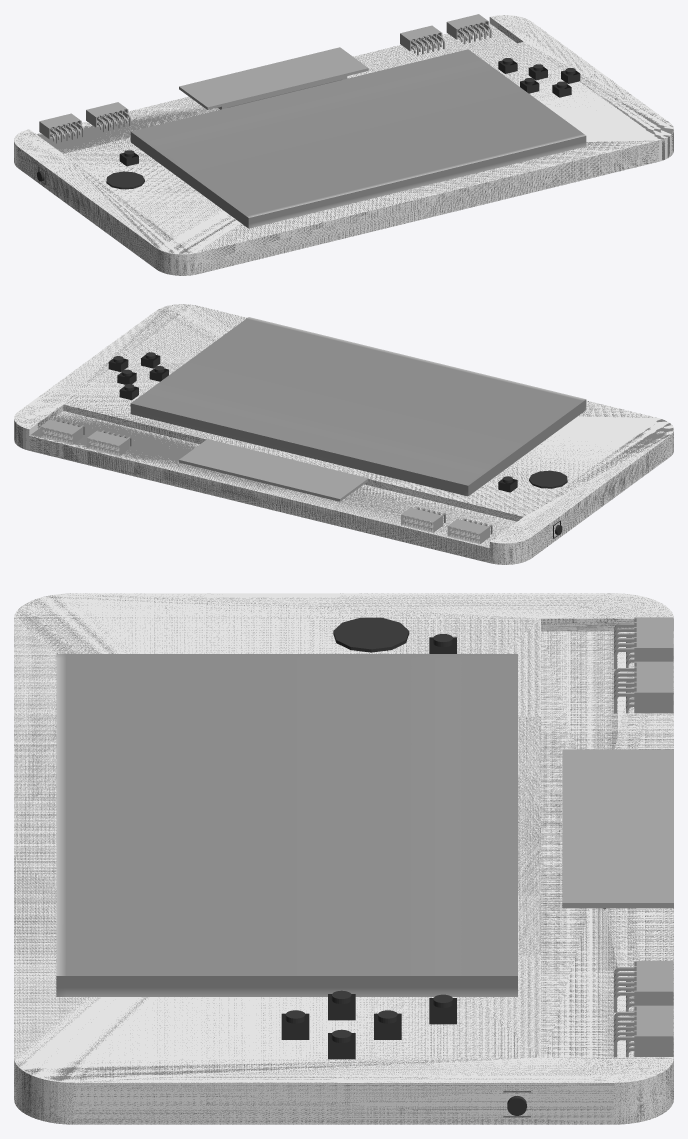
File: Joystick.dae
3 renders of one model, top to bottom at view 1: azimuth 30°, elevation 25°; view 2: azimuth 150°, elevation 25°; view 3: azimuth 270°, elevation 25°, orthographic. The views are drawn at different scales.
Visible parts, largest first — view 1: SketchUp, group_1, HSMC (×2), PMOD (×4), Joystick; view 2: SketchUp, group_1, HSMC, PMOD (×4), Joystick; view 3: group_1, SketchUp, HSMC, PMOD (×4), Joystick.
Part boxes in pixels (left/top/right/bottom): SketchUp: left=14, top=15, right=673, bottom=275; group_1: left=130, top=49, right=586, bottom=228; HSMC (×2): left=179, top=47, right=368, bottom=109; PMOD (×4): left=39, top=14, right=488, bottom=139; Joystick: left=106, top=171, right=144, bottom=189; SketchUp: left=14, top=304, right=673, bottom=564; group_1: left=130, top=317, right=586, bottom=496; HSMC: left=179, top=439, right=368, bottom=501; PMOD (×4): left=40, top=419, right=489, bottom=544; Joystick: left=529, top=470, right=567, bottom=488; group_1: left=56, top=654, right=517, bottom=996; SketchUp: left=14, top=593, right=673, bottom=1124; HSMC: left=562, top=749, right=673, bottom=908; PMOD (×4): left=634, top=617, right=673, bottom=1056; Joystick: left=333, top=617, right=409, bottom=652.
Size of the model in its own units: 10.02 by 5.63 by 0.6189.
8 materials, 1 textured.
